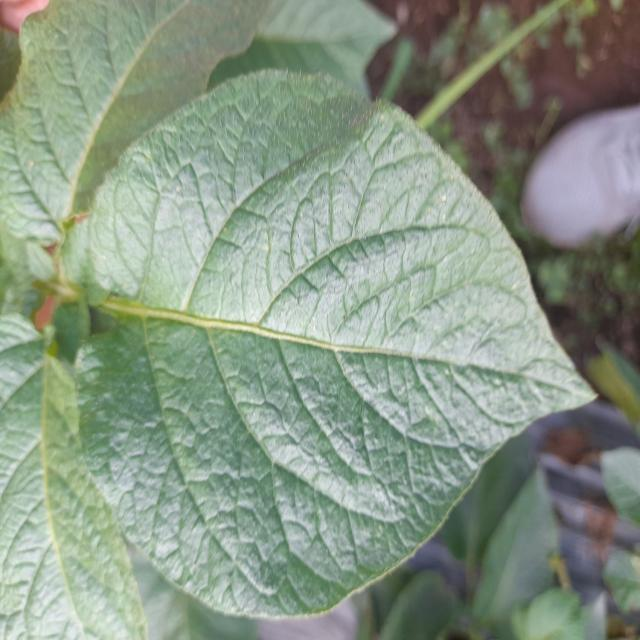healthy: (63, 66, 599, 623)
